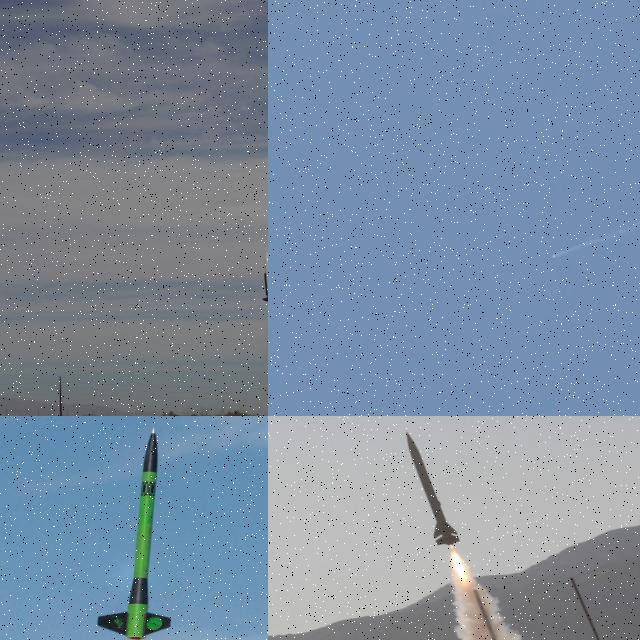Rocket: (95, 425, 172, 640), (403, 432, 462, 547), (261, 251, 268, 303), (552, 256, 554, 257)
